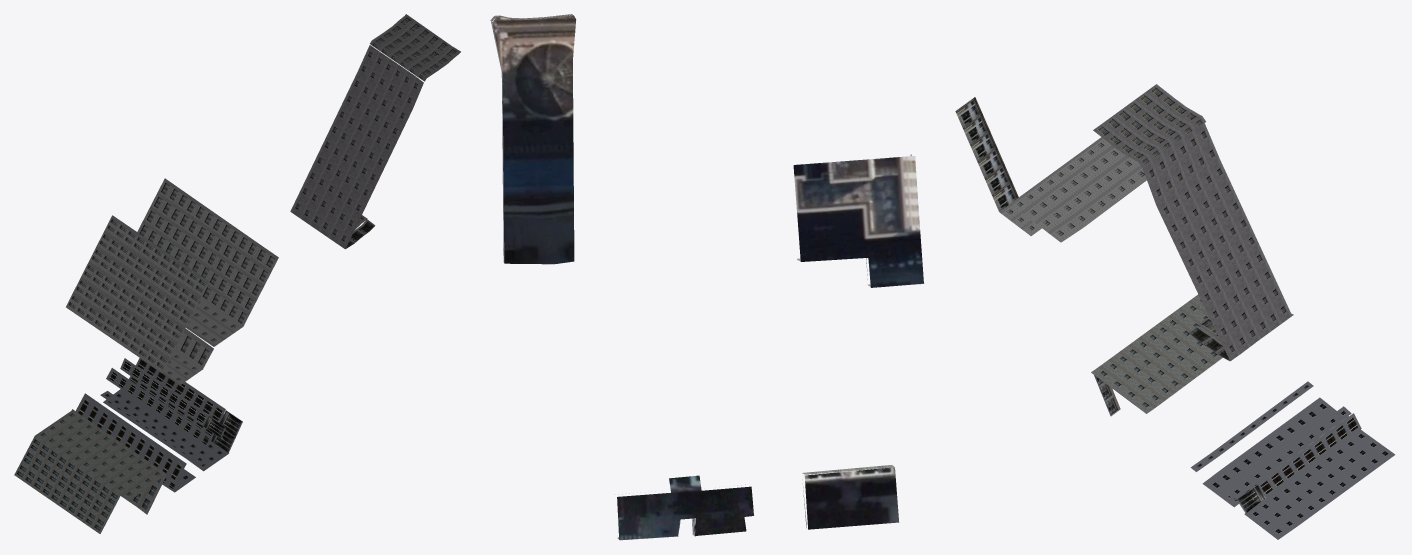
The model's file is tile_LOD4_r4_c13.glb.
The picture shows the model from 3 angles, left to right: view 1: azimuth 30°, elevation 25°; view 2: azimuth 150°, elevation 25°; view 3: azimuth 270°, elevation 25°; orthographic projection. The views are drawn at different scales.
Bounding box in the file's own units: 143 × 141 × 111.
20 materials, 20 textured.
